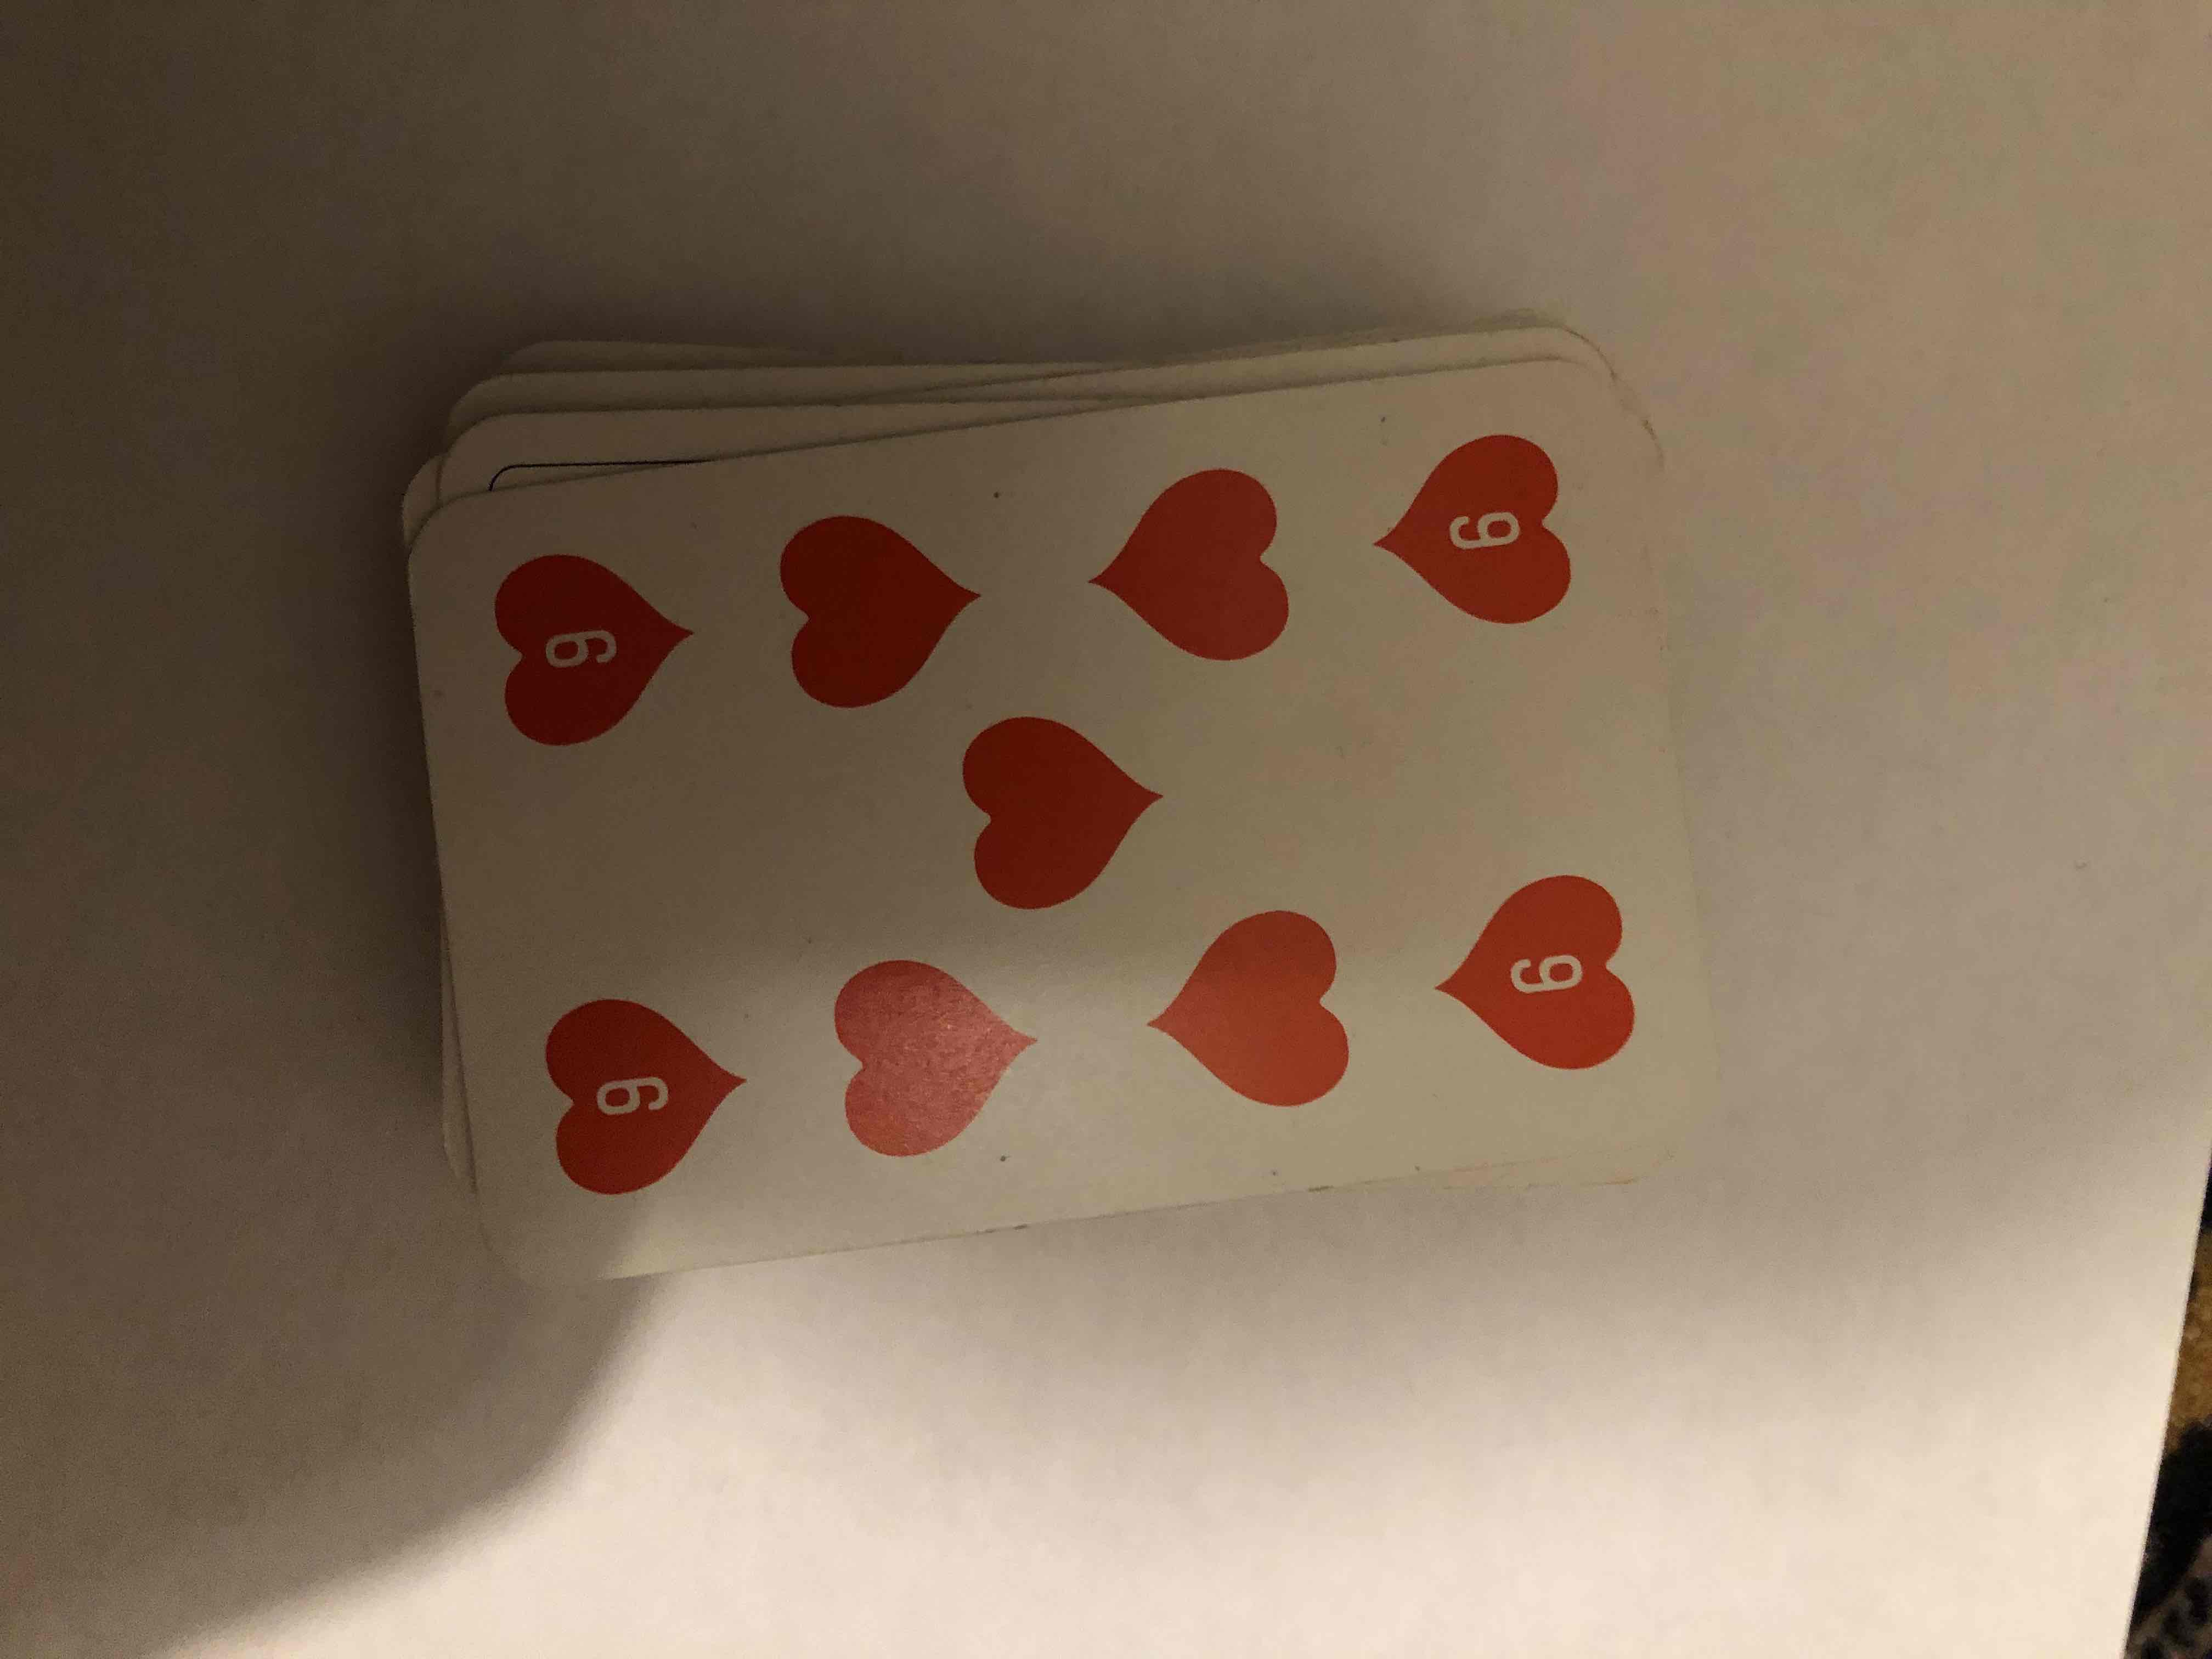hearts9: (467, 383, 1707, 1216)
